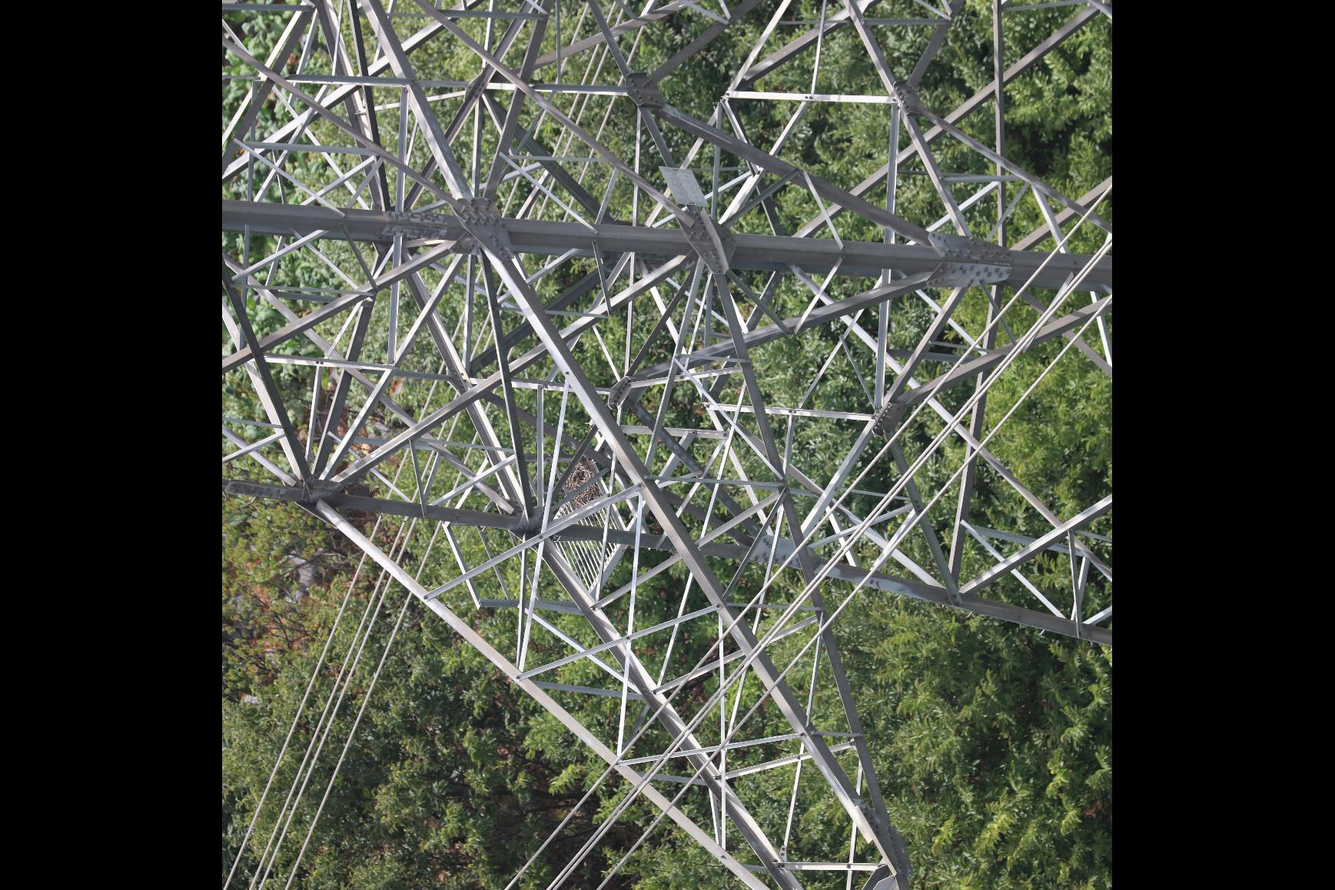nest: (563, 458, 602, 507)
